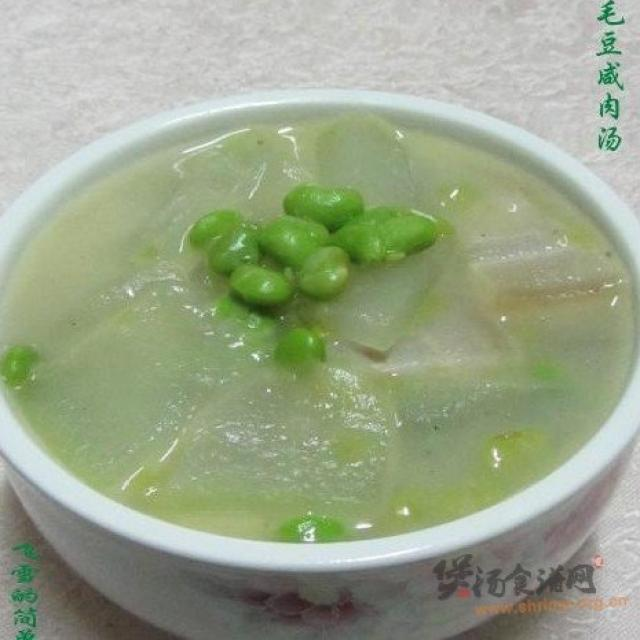汤锅炖物: (10, 69, 633, 585)
